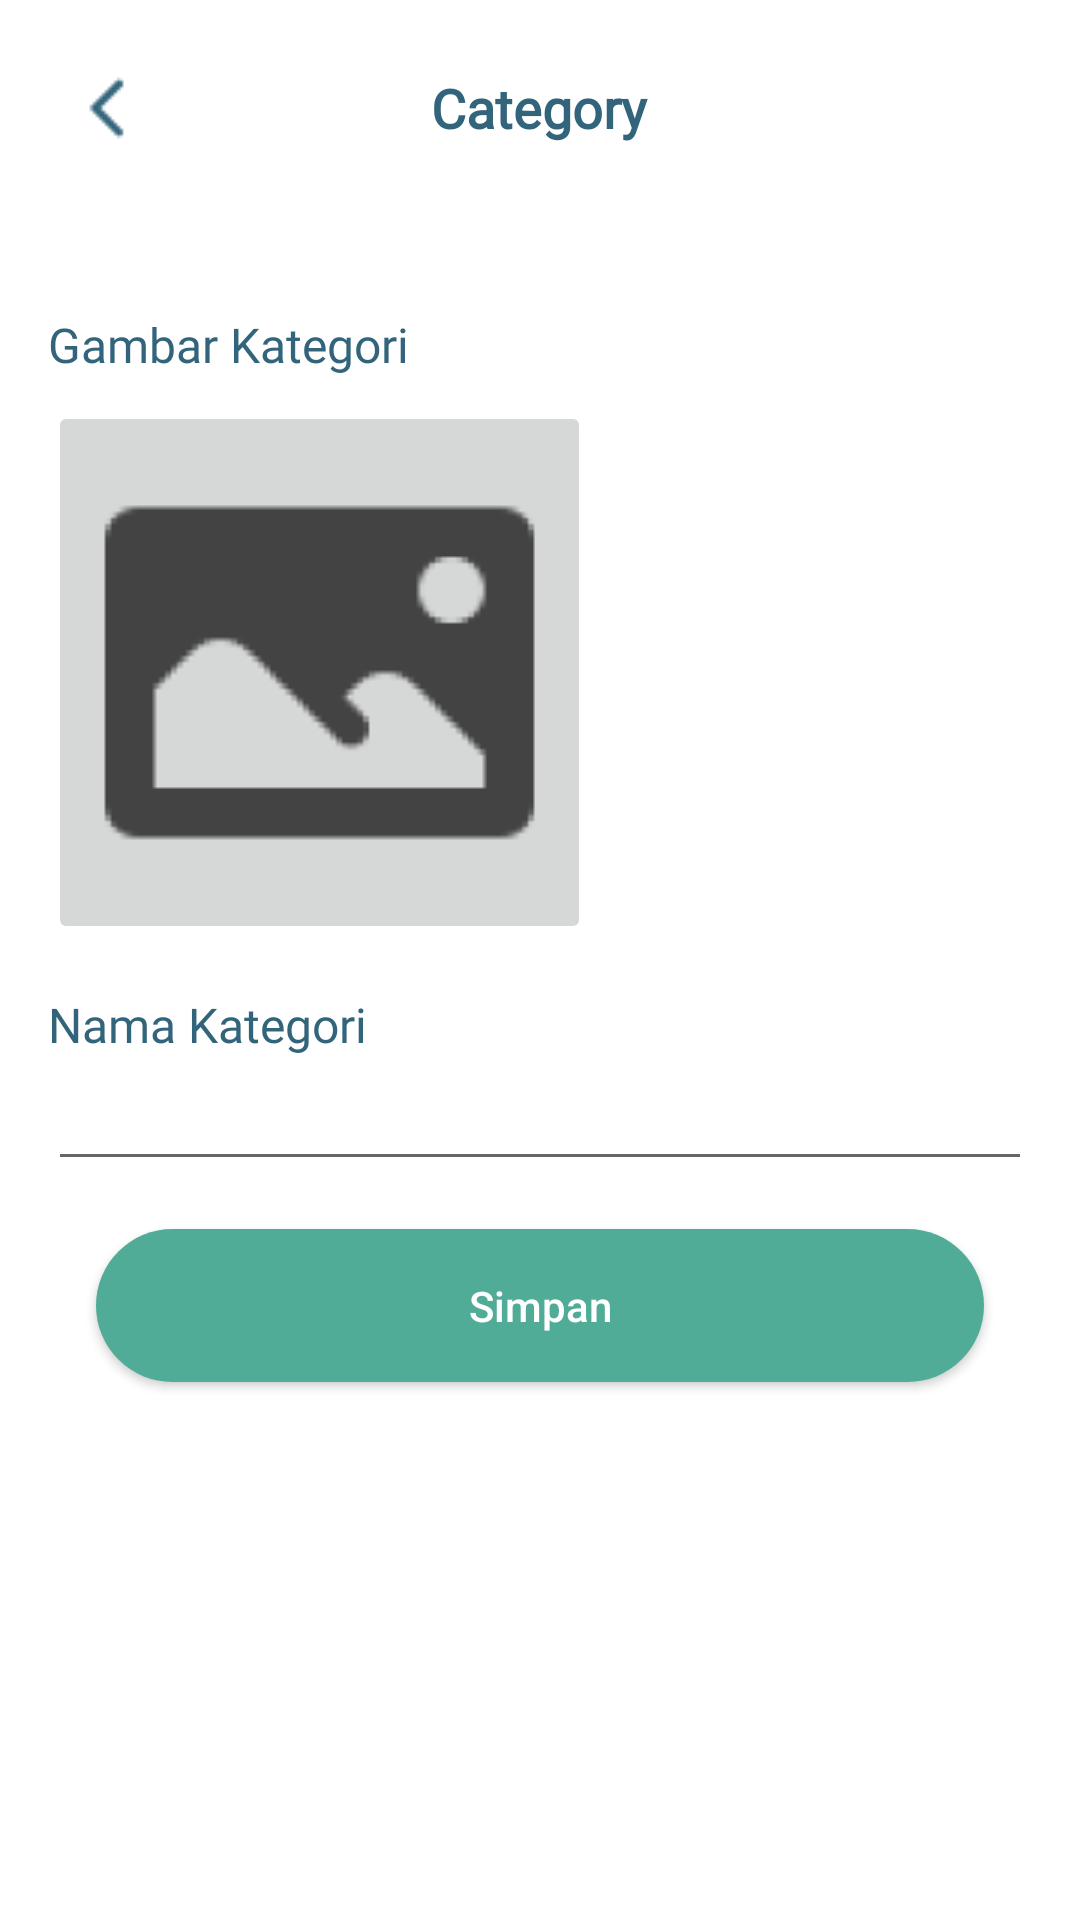

Named icons in this screenshot (1080*1920) and their bounding boxes, (x1, y1, x2, y2):
Back: (89, 78, 124, 138)
